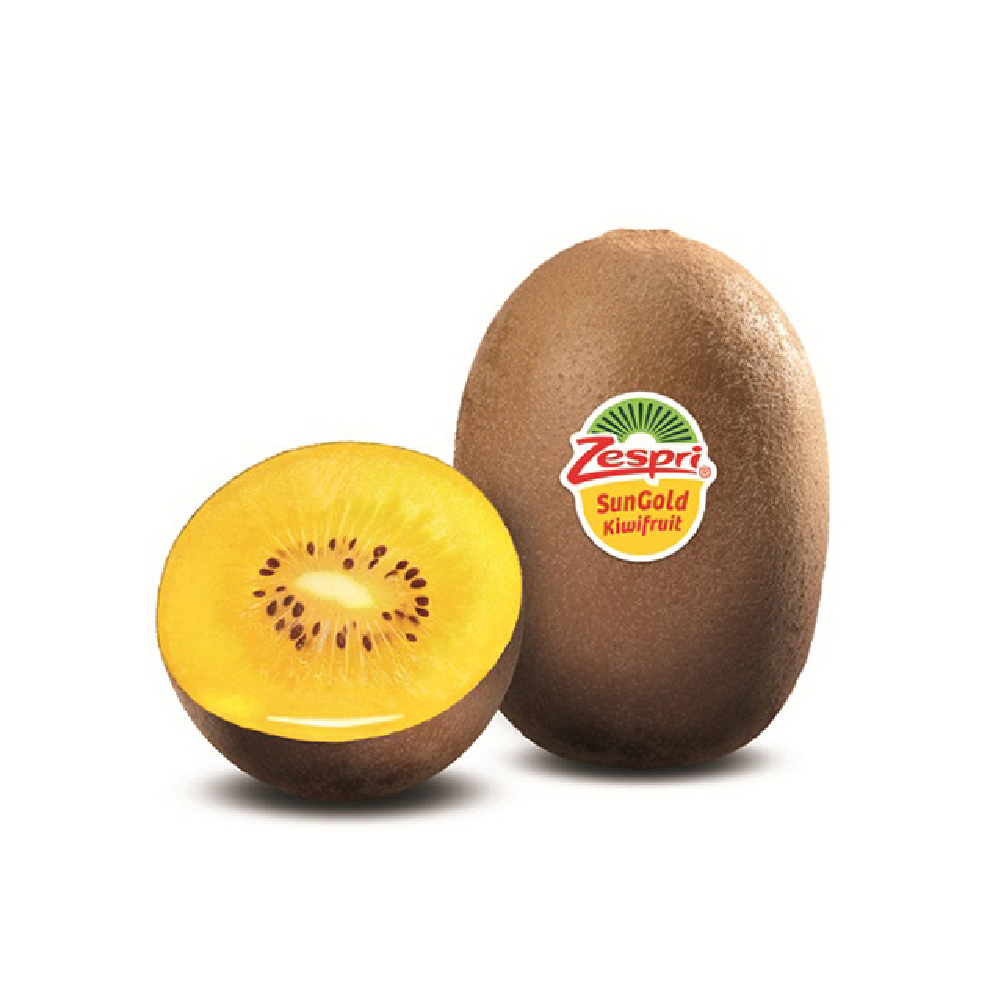kiwi: (452, 229, 831, 771), (158, 437, 524, 804)
